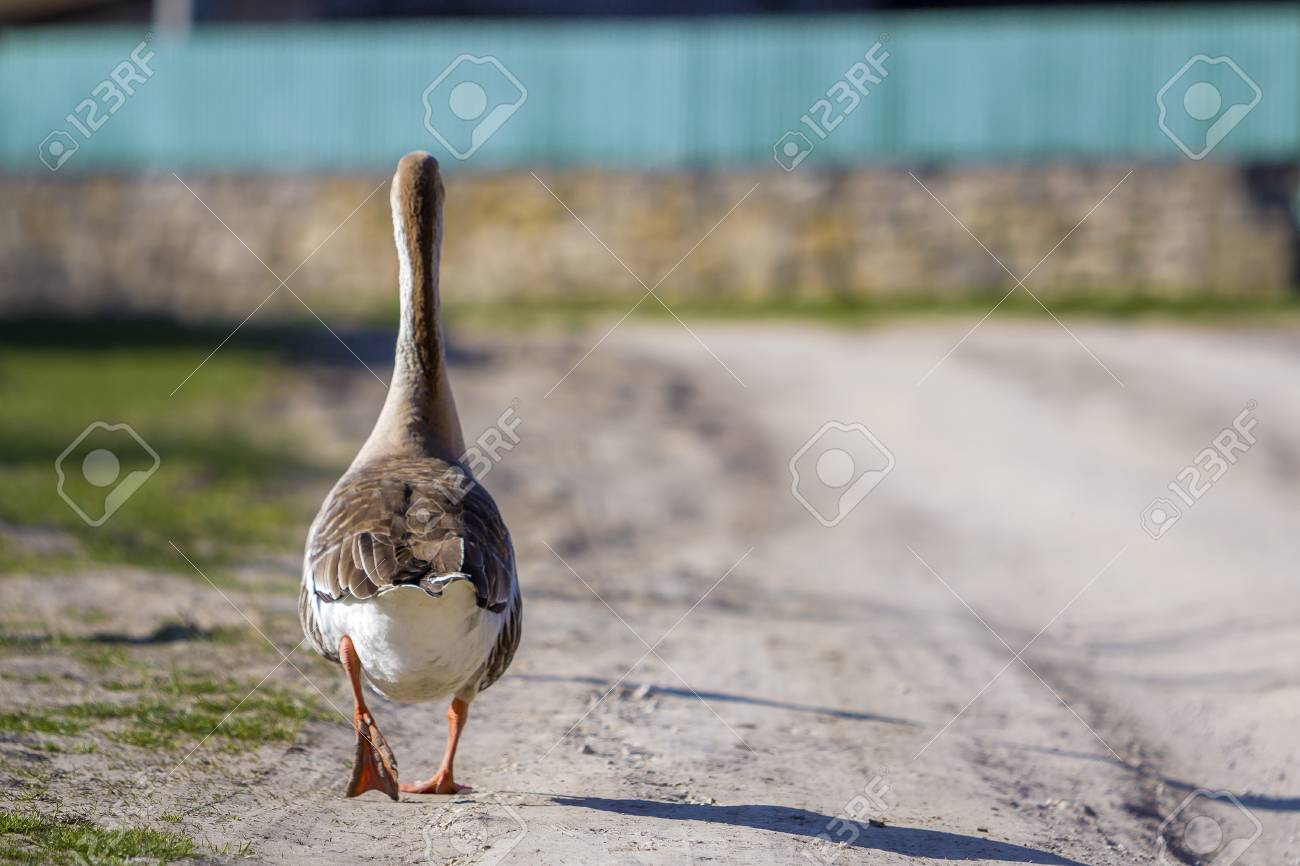goose: (296, 146, 528, 812)
